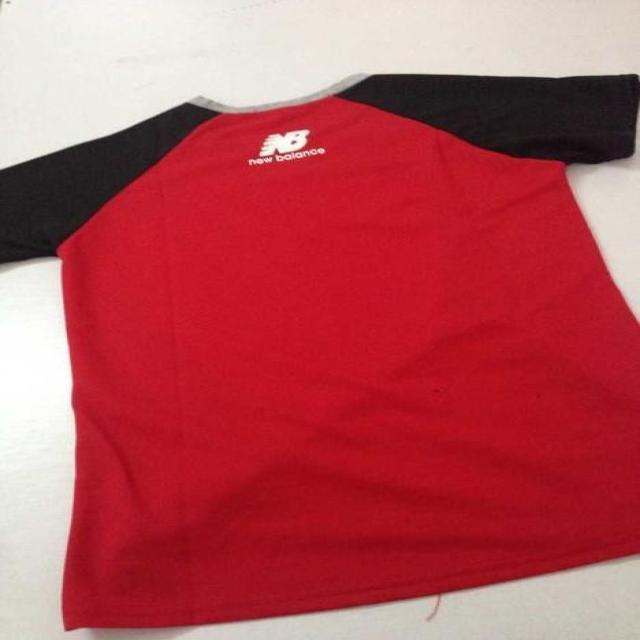short-sleeve-top: (16, 63, 638, 604)
